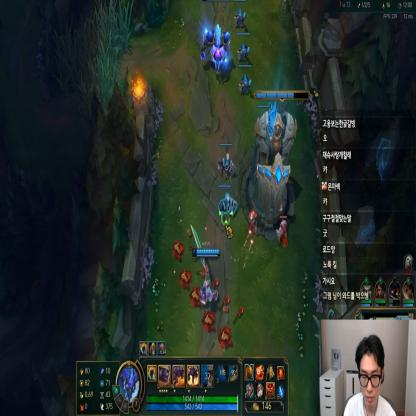streamer: (344, 332, 396, 416)
